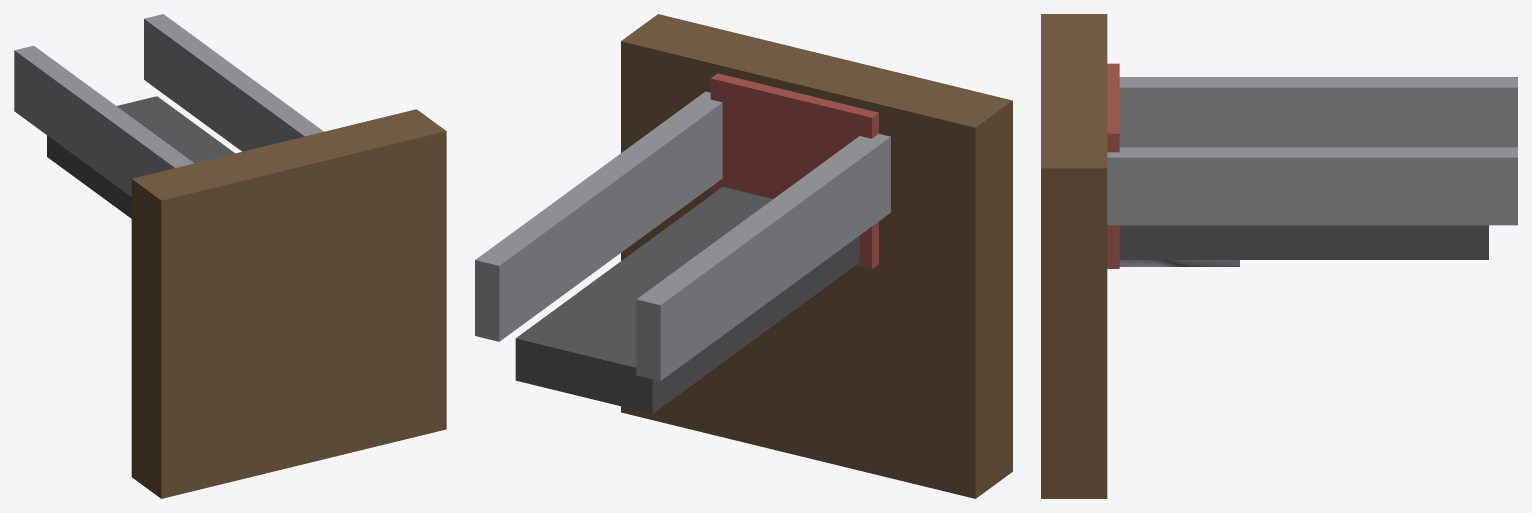
The model's file is rocket_launcher.glb.
3 views of the same model, side by side, from view 1: azimuth 30°, elevation 25°; view 2: azimuth 150°, elevation 25°; view 3: azimuth 270°, elevation 25° (orthographic). The views are drawn at different scales.
Visible parts, largest first — view 1: RocketLauncher; view 2: RocketLauncher; view 3: RocketLauncher.
Part boxes in pixels (left/top/right/bottom): RocketLauncher: left=14, top=14, right=446, bottom=498; RocketLauncher: left=475, top=14, right=1012, bottom=498; RocketLauncher: left=1041, top=14, right=1517, bottom=498.
Size of the model in its own units: 0.44 by 0.44 by 0.575.
